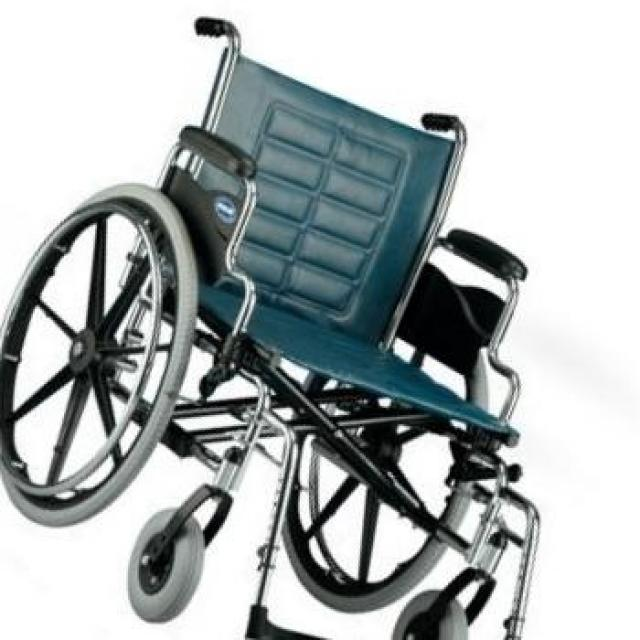wheelchair: (1, 9, 574, 640)
